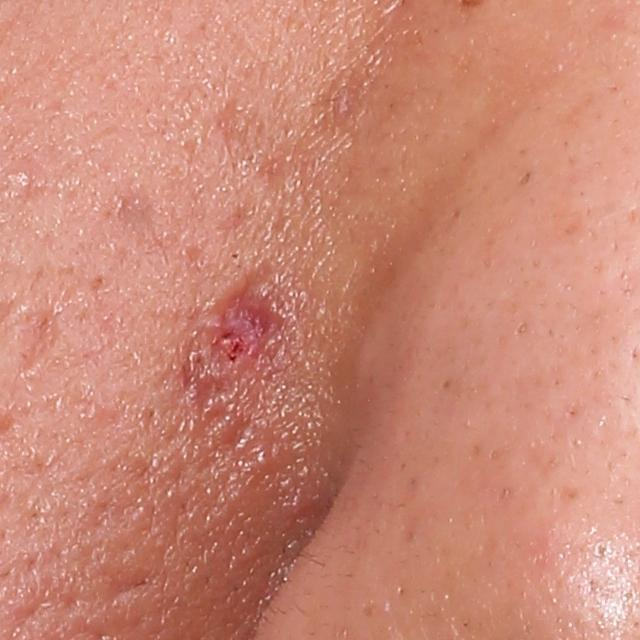atrophic_scar: (177, 252, 297, 420), (16, 302, 62, 374)
comedo: (230, 250, 243, 263)
